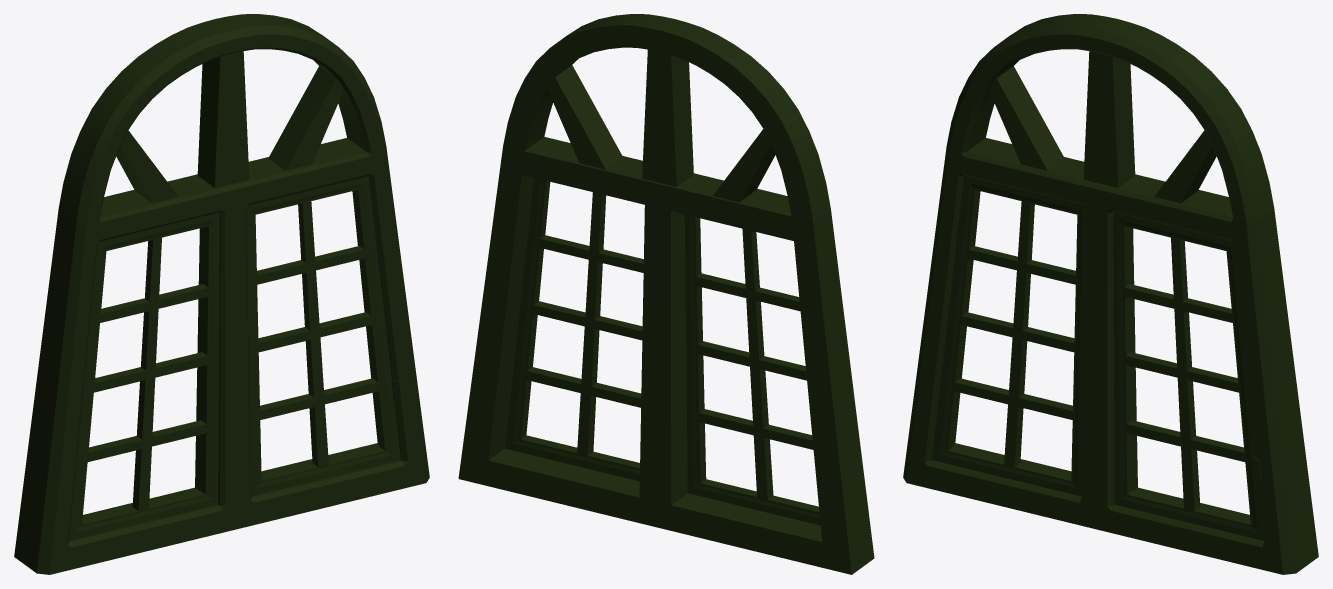
Rendered from MSG_Lr_window.FBX.
3 views of the same model, side by side, from view 1: azimuth 30°, elevation 25°; view 2: azimuth 150°, elevation 25°; view 3: azimuth 330°, elevation 25° (orthographic).
Visible parts, largest first — view 1: Cylinder006; view 2: Cylinder006; view 3: Cylinder006.
Boxes of the visible parts, box(x1,y1,x2,y2) form: Cylinder006: box(14, 14, 429, 574); Cylinder006: box(458, 14, 874, 574); Cylinder006: box(903, 14, 1318, 574).
Size of the model in its own units: 207 by 248 by 25.02.
